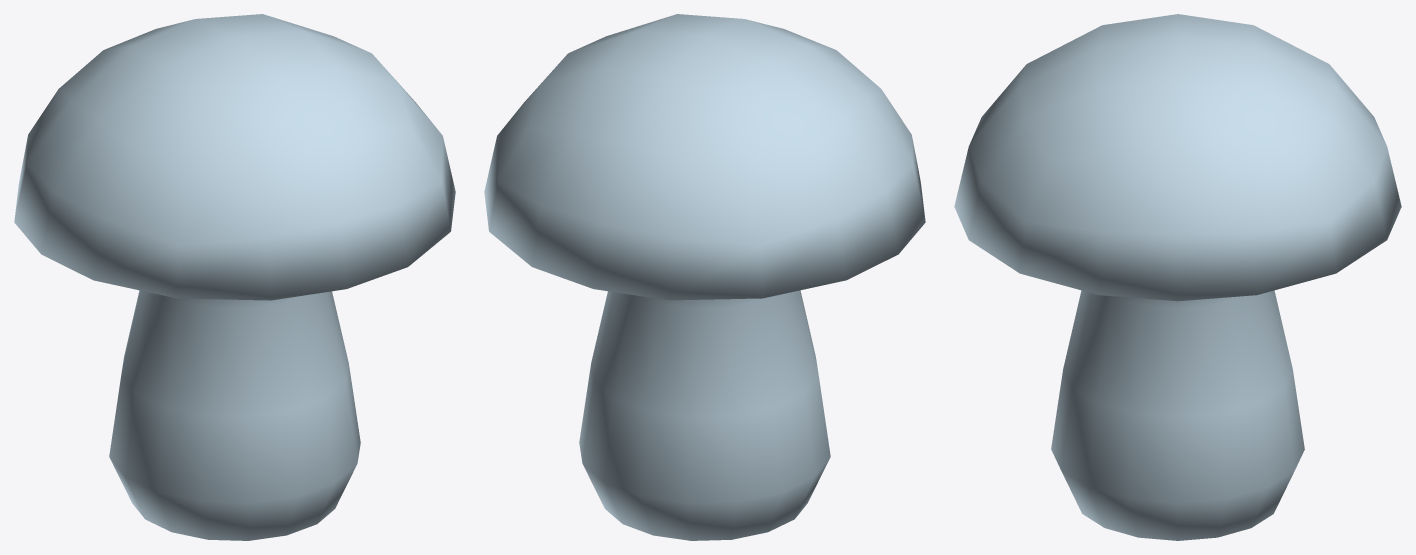
The model's file is mushroom.fbx.
3 views of the same model, side by side, from view 1: azimuth 30°, elevation 25°; view 2: azimuth 150°, elevation 25°; view 3: azimuth 270°, elevation 25° (orthographic).
Parts seen in each view (by area): view 1: Mushroom; view 2: Mushroom; view 3: Mushroom.
Part boxes in pixels (left/top/right/bottom): Mushroom: left=14, top=14, right=455, bottom=540; Mushroom: left=484, top=14, right=925, bottom=540; Mushroom: left=954, top=14, right=1401, bottom=540.
Size of the model in its own units: 73.58 by 86.89 by 73.58.
